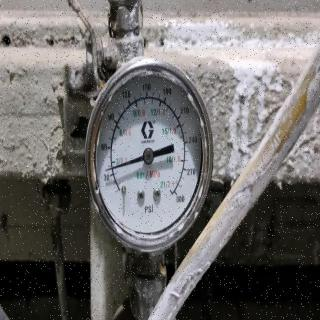gauge: (85, 51, 219, 263), (162, 183, 186, 203), (112, 185, 130, 201), (141, 147, 155, 165), (102, 163, 114, 176)
